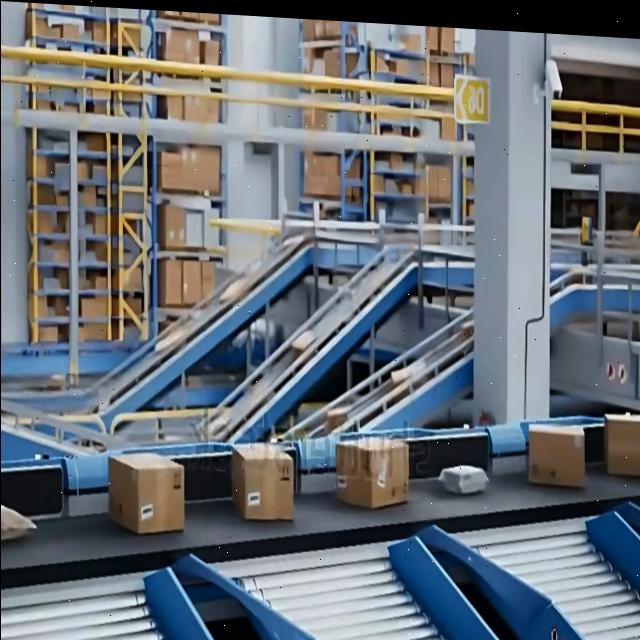product 1: (334, 432, 408, 510), (230, 439, 294, 522), (138, 450, 184, 536), (527, 420, 559, 486)
product 2: (436, 463, 488, 497)
